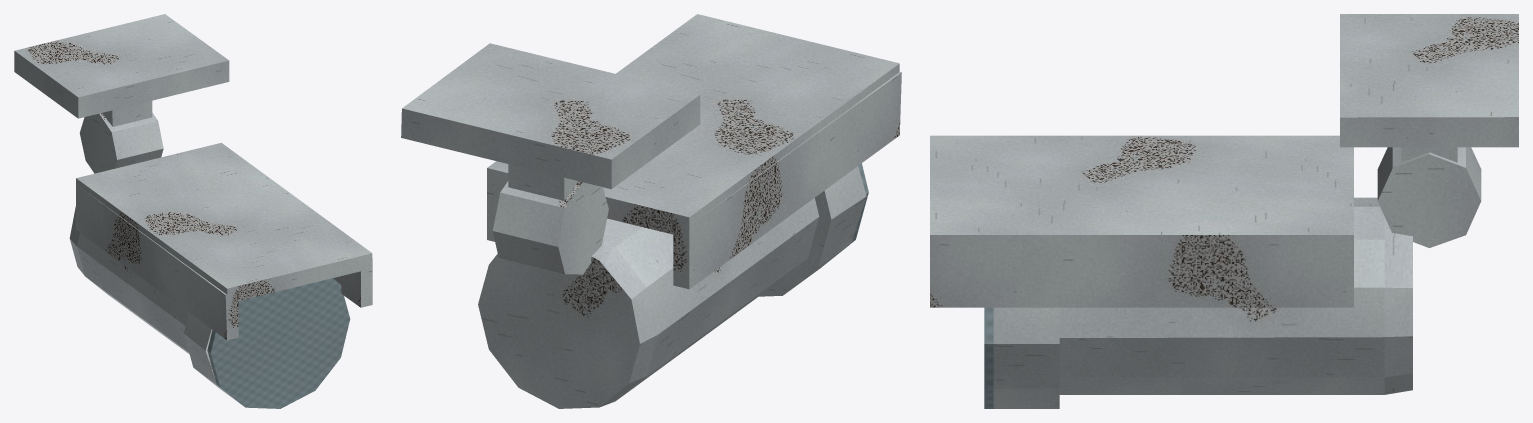
File: camera1_v4.glb
The picture shows the model from 3 angles, left to right: view 1: azimuth 30°, elevation 25°; view 2: azimuth 150°, elevation 25°; view 3: azimuth 270°, elevation 25°; orthographic projection. The views are drawn at different scales.
Visible parts, largest first — view 1: Variant_camera1_4; view 2: Variant_camera1_4; view 3: Variant_camera1_4.
Part boxes in pixels (x1,y1,x2,y2): Variant_camera1_4: (14,14,372,408); Variant_camera1_4: (401,14,901,408); Variant_camera1_4: (930,14,1518,408).
Bounding box in the file's own units: 0.104 × 0.156 × 0.25.
2 materials, 2 textured.
